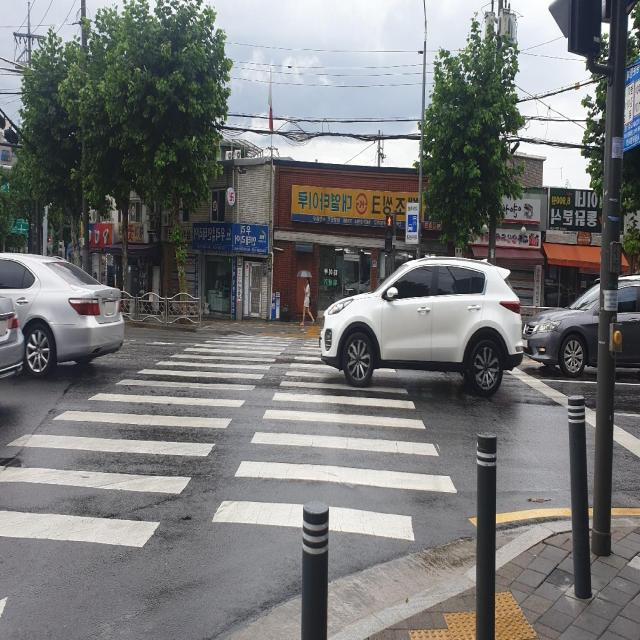barrier ahead at: (470, 424, 506, 640), (566, 382, 594, 614)
car ahead at: (320, 253, 530, 402)
zebra crossing ahead at: (0, 329, 296, 551)
